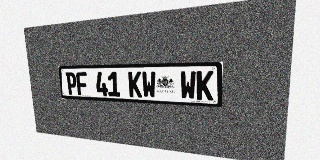1: (107, 72, 120, 97)
4: (95, 72, 108, 96)
F: (76, 72, 88, 95)
K: (196, 71, 214, 100), (128, 71, 142, 98)
P: (65, 72, 77, 95)
W: (180, 71, 196, 100), (142, 71, 156, 98)
